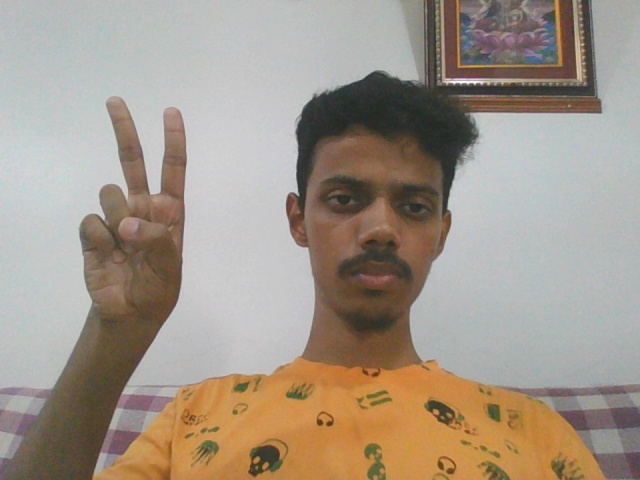Peace: (77, 94, 188, 318)
